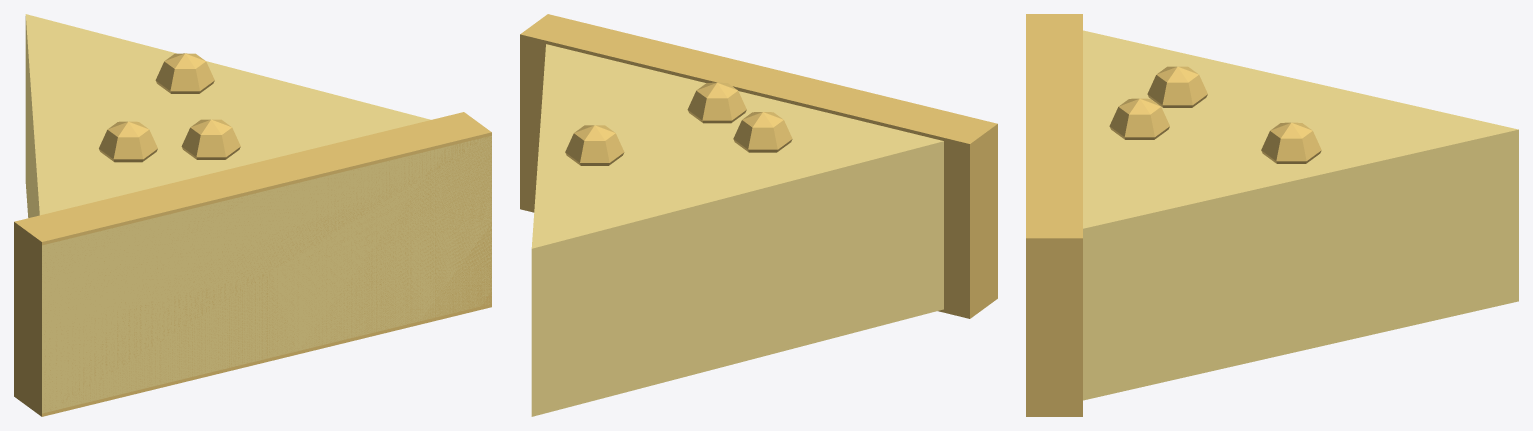
Rendered from cheese_held.gltf.
The picture shows the model from 3 angles, left to right: view 1: azimuth 30°, elevation 25°; view 2: azimuth 150°, elevation 25°; view 3: azimuth 270°, elevation 25°; orthographic projection. The views are drawn at different scales.
Parts seen in each view (by area): view 1: animals_cheese_held; view 2: animals_cheese_held; view 3: animals_cheese_held.
Boxes of the visible parts, <box> form: animals_cheese_held: <box>14,14,491,416</box>; animals_cheese_held: <box>520,14,997,416</box>; animals_cheese_held: <box>1026,14,1518,416</box>.
Bounding box in the file's own units: 0.14 × 0.06 × 0.13.
